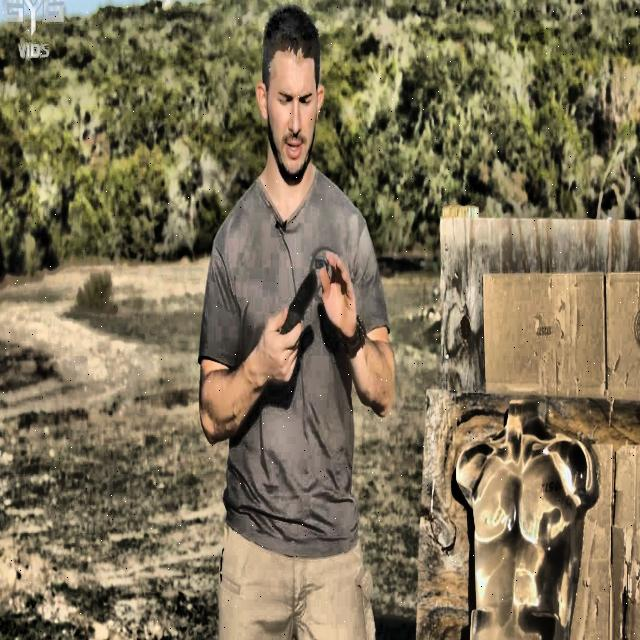knife: (280, 270, 318, 334)
